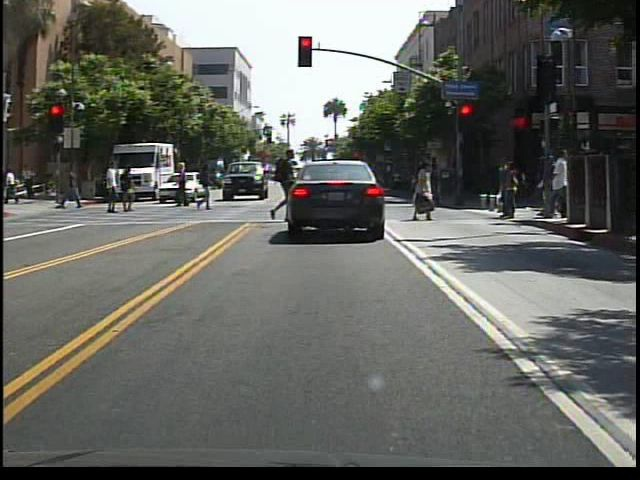person: (405, 158, 443, 228), (265, 147, 298, 225), (544, 149, 569, 223), (103, 161, 127, 218), (60, 163, 86, 214), (195, 163, 220, 215), (174, 163, 194, 211), (123, 166, 139, 214)
